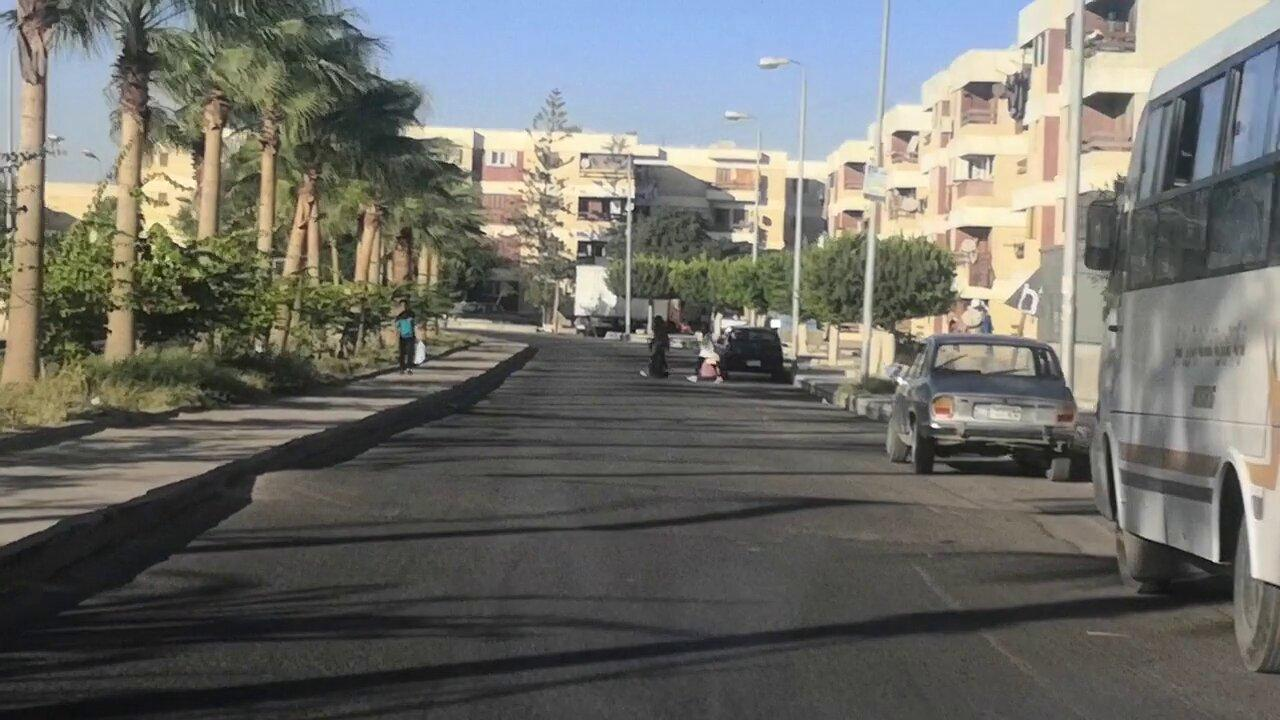Bump: (247, 467, 1163, 545)
